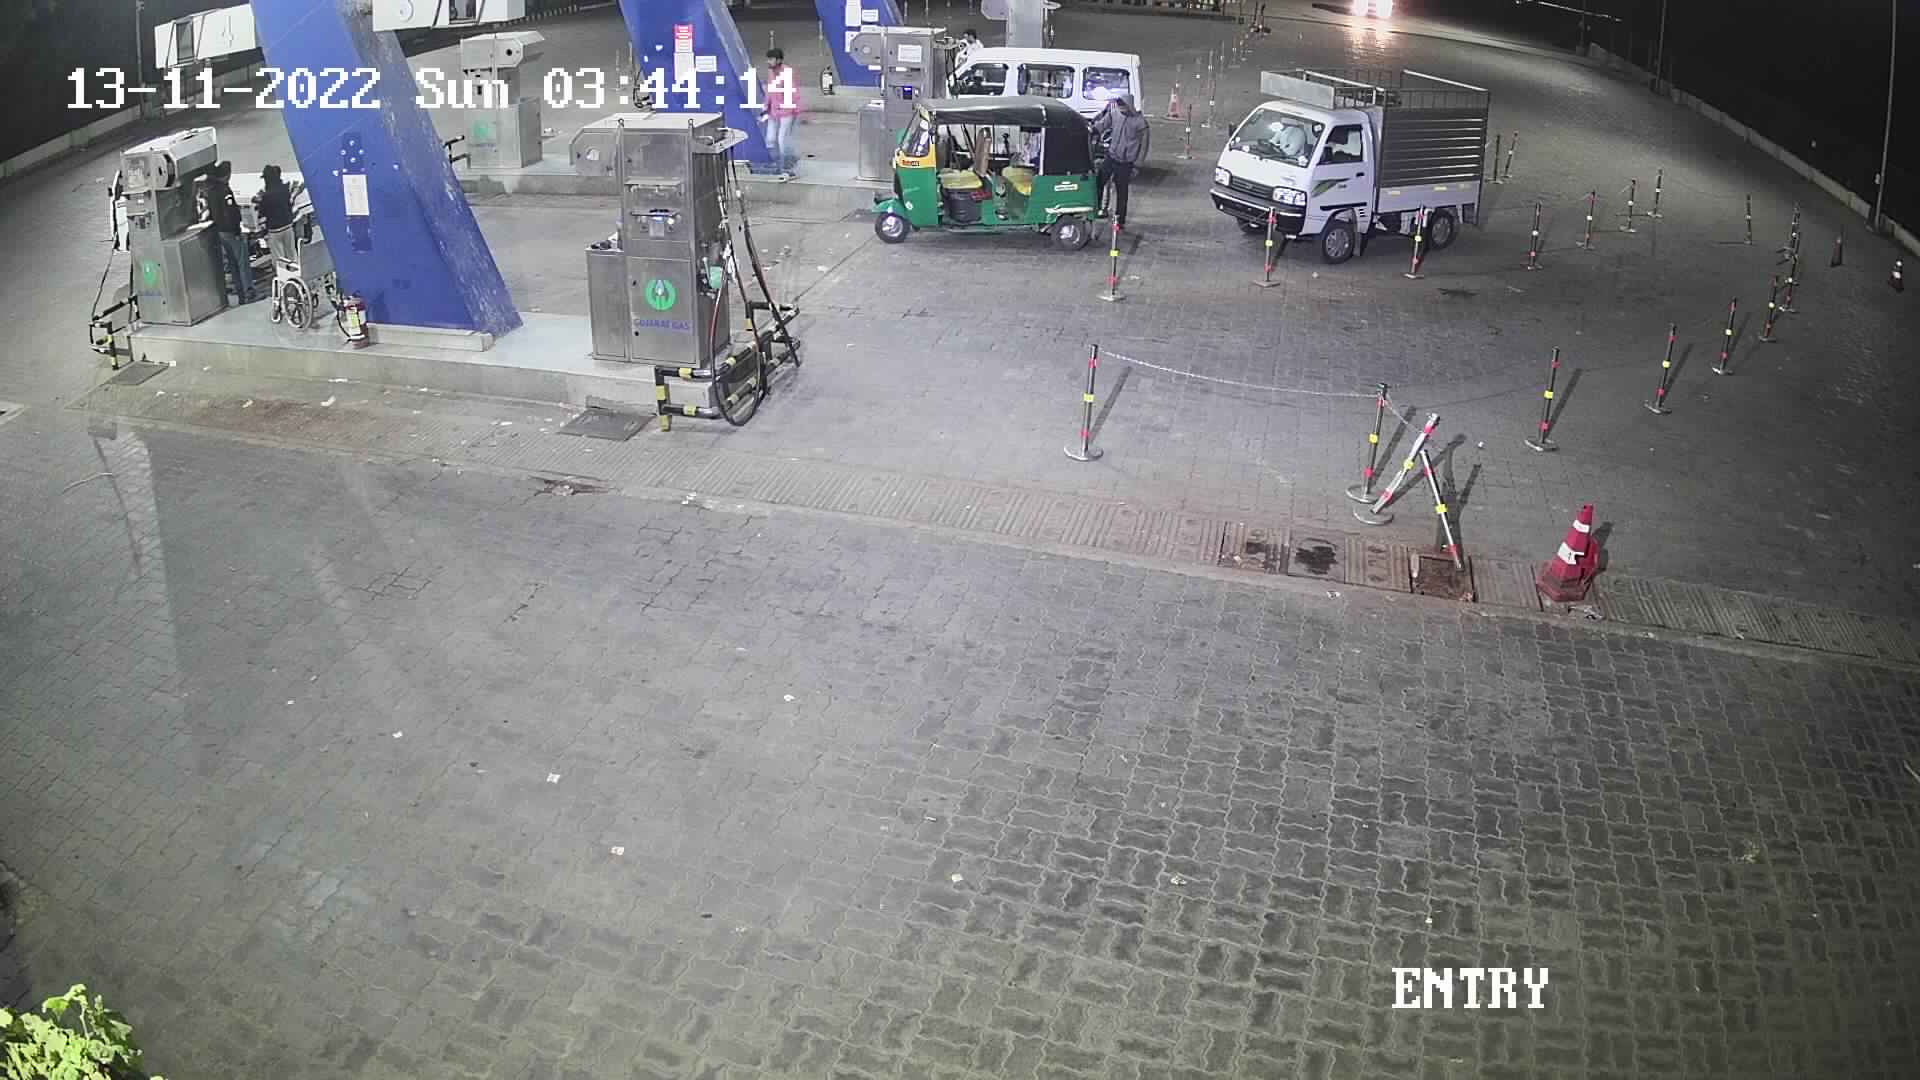Auto: (864, 80, 1120, 255)
Car: (1199, 53, 1503, 272), (934, 34, 1164, 177)
